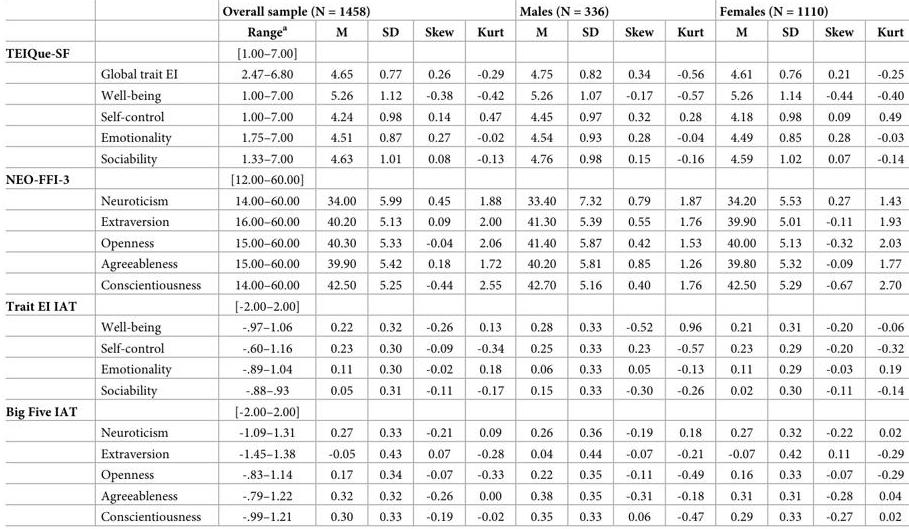table: (4, 4, 903, 523)
table column: (88, 4, 211, 523), (211, 4, 315, 523), (4, 4, 88, 523), (511, 4, 567, 523), (711, 4, 767, 523), (315, 4, 367, 523), (412, 4, 464, 523), (612, 4, 664, 523), (812, 4, 864, 523), (464, 4, 511, 523), (664, 4, 711, 523), (367, 4, 412, 523), (567, 4, 612, 523), (767, 4, 812, 523), (864, 4, 903, 523)
table column header: (4, 4, 903, 64)
table row: (4, 20, 903, 64), (4, 316, 903, 338), (4, 64, 903, 85), (4, 85, 903, 106), (4, 106, 903, 127), (4, 127, 903, 148), (4, 148, 903, 169), (4, 169, 903, 190), (4, 190, 903, 211), (4, 211, 903, 232), (4, 232, 903, 253), (4, 253, 903, 274), (4, 274, 903, 295), (4, 295, 903, 316), (4, 338, 903, 359), (4, 359, 903, 380), (4, 380, 903, 401), (4, 401, 903, 422), (4, 422, 903, 443), (4, 443, 903, 464), (4, 464, 903, 485), (4, 485, 903, 506), (4, 506, 903, 523), (4, 4, 903, 20)
table spanning cell: (4, 169, 88, 295), (4, 401, 88, 523), (4, 295, 88, 401), (4, 4, 88, 64), (211, 4, 511, 20), (511, 4, 711, 20), (711, 4, 903, 20)
